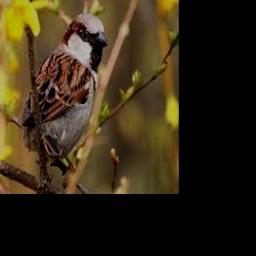Sparrow: (22, 13, 109, 173)
